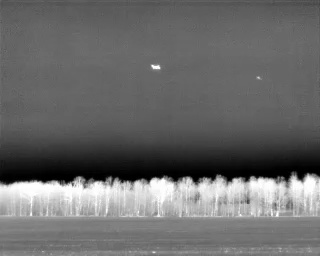DRONE: (147, 60, 165, 74)
